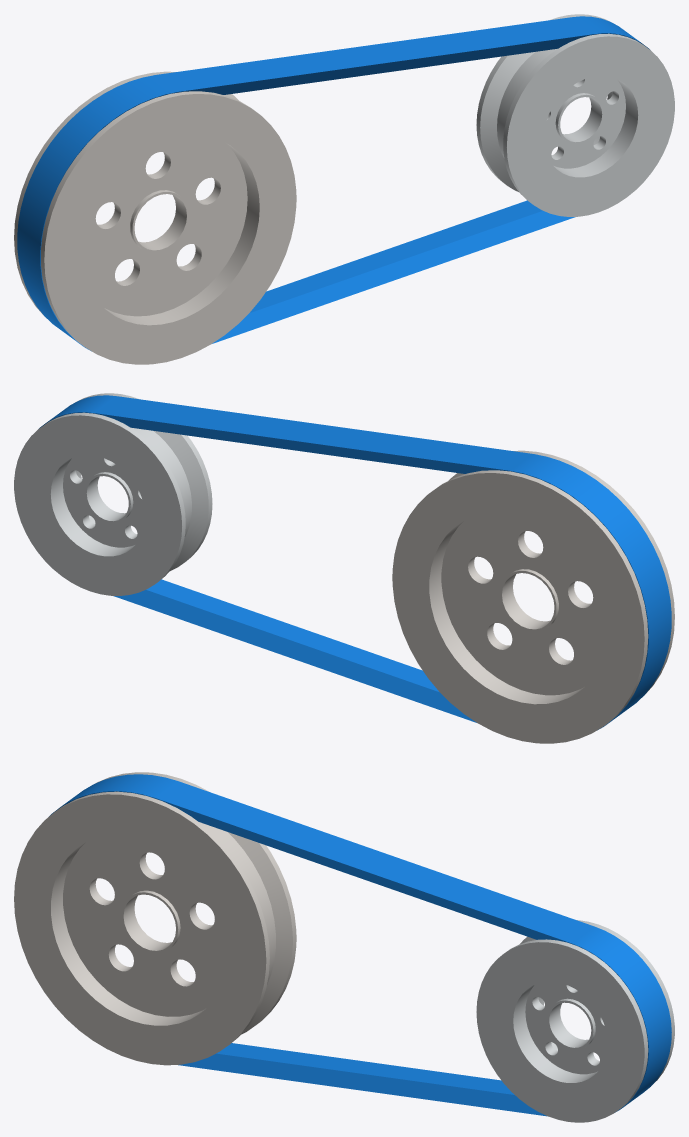
The model's file is v-belt.fbx.
3 renders of one model, top to bottom at view 1: azimuth 30°, elevation 25°; view 2: azimuth 150°, elevation 25°; view 3: azimuth 330°, elevation 25°, orthographic.
Visible parts, largest first — view 1: BIG_pulley, Belt1-4^Assem1, small_pulley; view 2: BIG_pulley, Belt1-4^Assem1, small_pulley; view 3: BIG_pulley, Belt1-4^Assem1, small_pulley.
Boxes of the visible parts, left/top/right/bottom form: BIG_pulley: left=14, top=71, right=296, bottom=364; Belt1-4^Assem1: left=17, top=16, right=649, bottom=351; small_pulley: left=476, top=14, right=674, bottom=216; BIG_pulley: left=392, top=450, right=674, bottom=743; Belt1-4^Assem1: left=39, top=395, right=671, bottom=730; small_pulley: left=14, top=393, right=212, bottom=595; BIG_pulley: left=14, top=772, right=296, bottom=1065; Belt1-4^Assem1: left=49, top=774, right=671, bottom=1116; small_pulley: left=476, top=920, right=674, bottom=1122.
Bounding box in the file's own units: 30.04 × 12.05 × 2.5.
